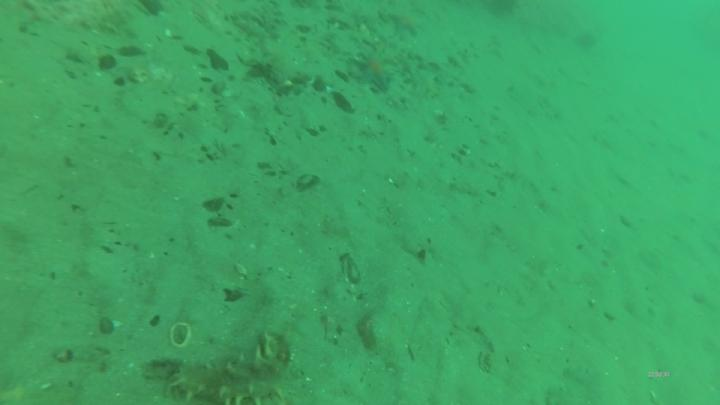echinus: (480, 1, 523, 22), (575, 29, 600, 53)
holothurian: (144, 357, 293, 405), (225, 327, 294, 387), (259, 1, 283, 44)
starfish: (350, 51, 399, 94), (386, 10, 427, 38)
